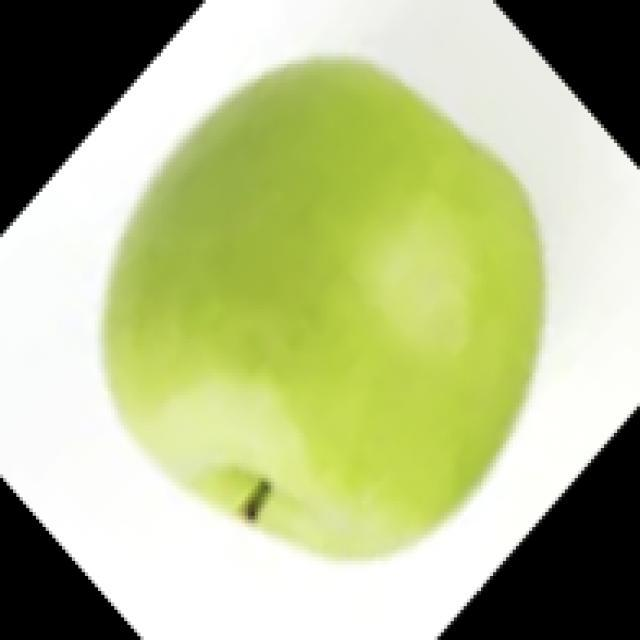Fresh Apple: (98, 50, 550, 567)
